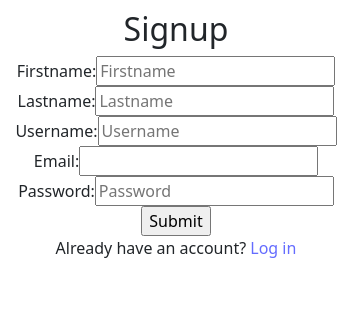
it: Signup Page › displays an error message when an invalid email is provided
Step 1. Type "Test" into the field labelled "Firstname:" → (216, 71), box [96,56,335,86]
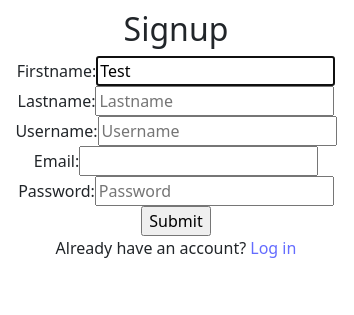
Step 2. Type "User" into the field labelled "Lastname:" → (215, 101), box [96,86,334,116]
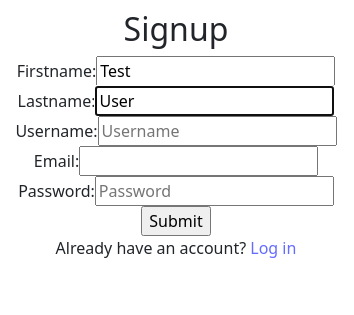
Step 3. Type "testuser" into the field labelled "Username:" → (217, 131), box [98,116,337,146]
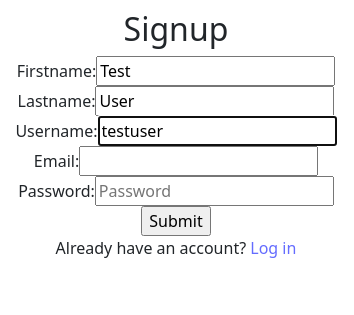
Step 4. Type "testemail.com" into the field labelled "Email:" → (199, 161), box [79,146,318,176]
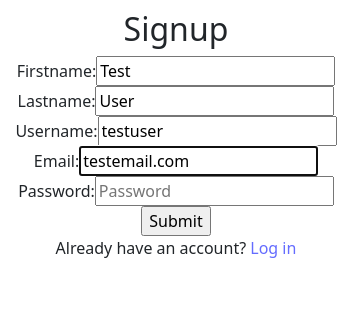
Step 5. Click the button → click(176, 221), box [141,206,211,236]
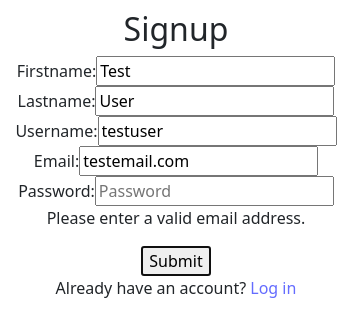
Result: the text "Please enter a valid email address." is shown at [47,207,305,229]
